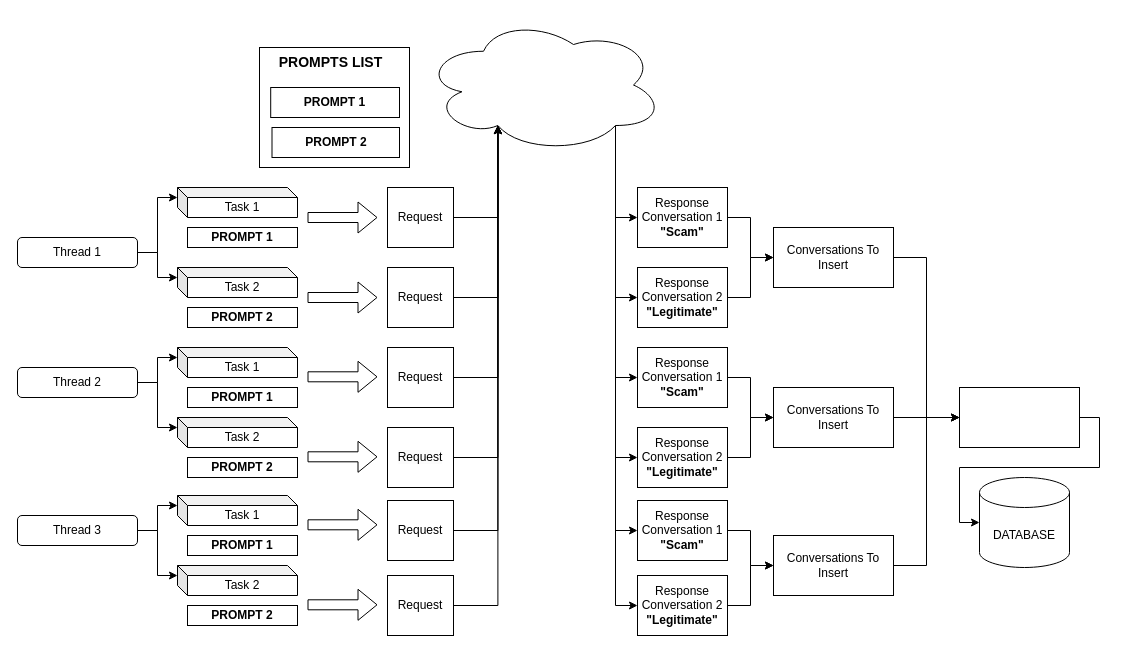
The diagram is 1125 pixels wide and 653 high, and some of its shapes have lost their labels. The centre of each missing label's shape, as x and y in pixels:
CHAT GPT API: point (543, 84)
Labelling: point (1019, 417)
